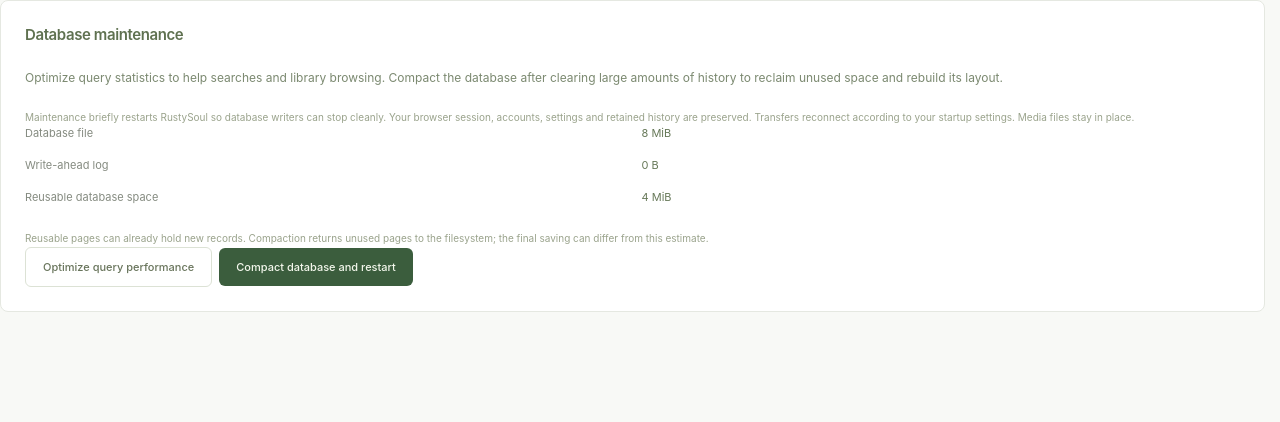
Test: shows capacity and requests safe supervised compaction, then displays the matching completion
Later steps or results of the test are not shown.
Expected: the text "8 MiB" is shown, [642, 126, 671, 140]
Click the button "Compact database and restart" at (316, 267), box [219, 248, 413, 286]
Wait 3000 ms
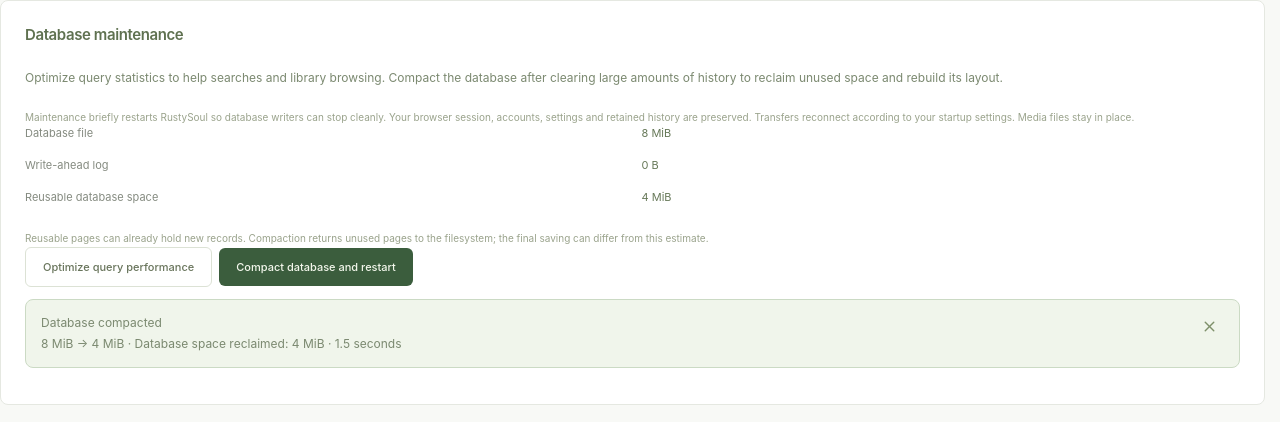
Expected: the text "Database compacted" is shown, [41, 315, 162, 330]
